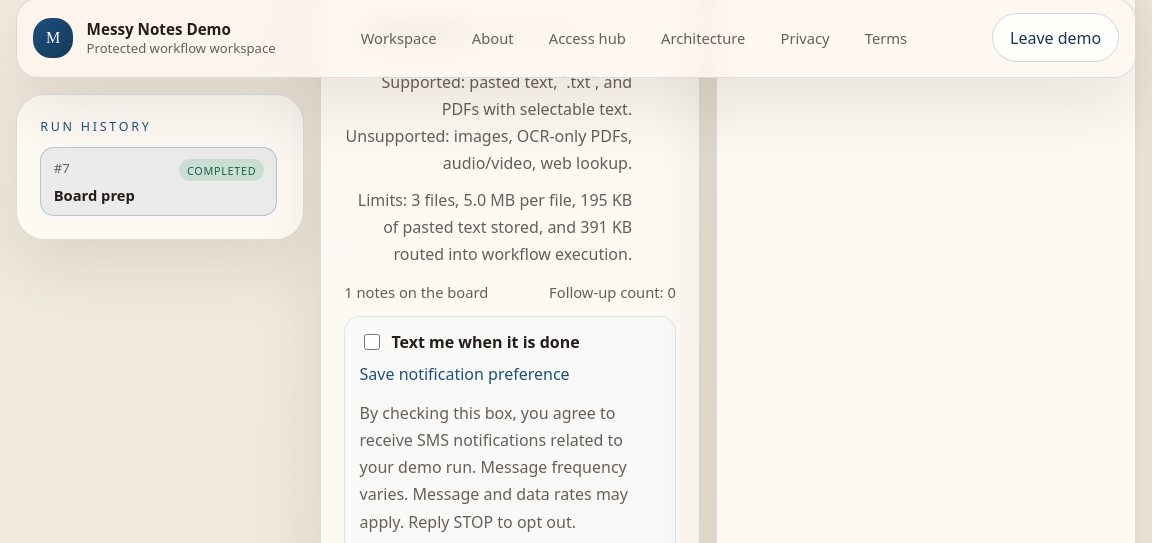
Test case: MessyNotesRunPage › captures notification preference and shows exhausted follow-up state
(page scrolled)
Click the checkbox labelled "Text me when it is done": (372, 342) [364, 334, 380, 350]
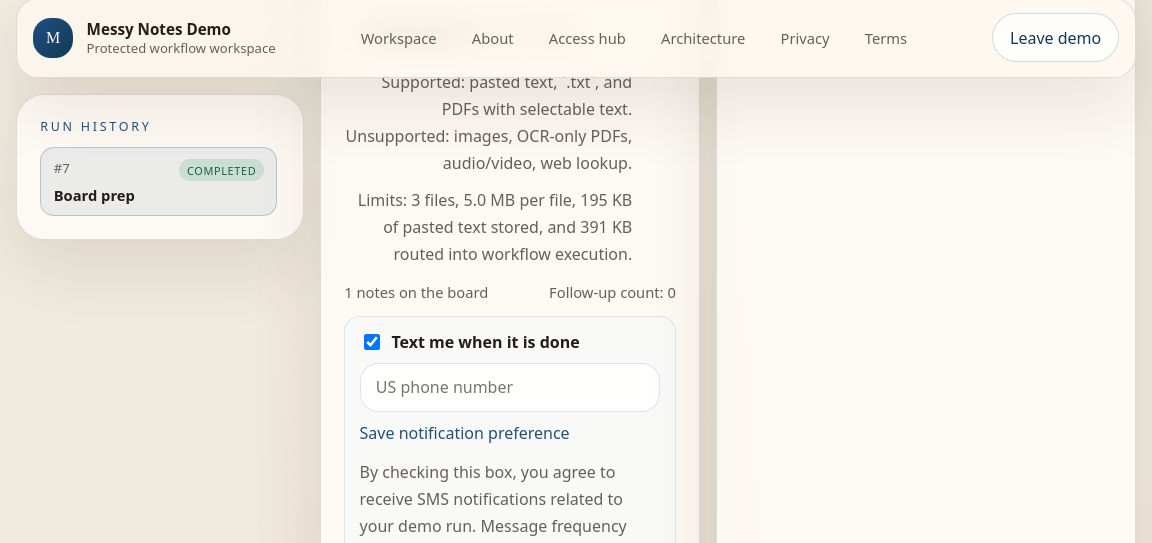
In the field labelled "US phone number": (510, 387) [360, 363, 660, 412], type "(415) 555-0134"
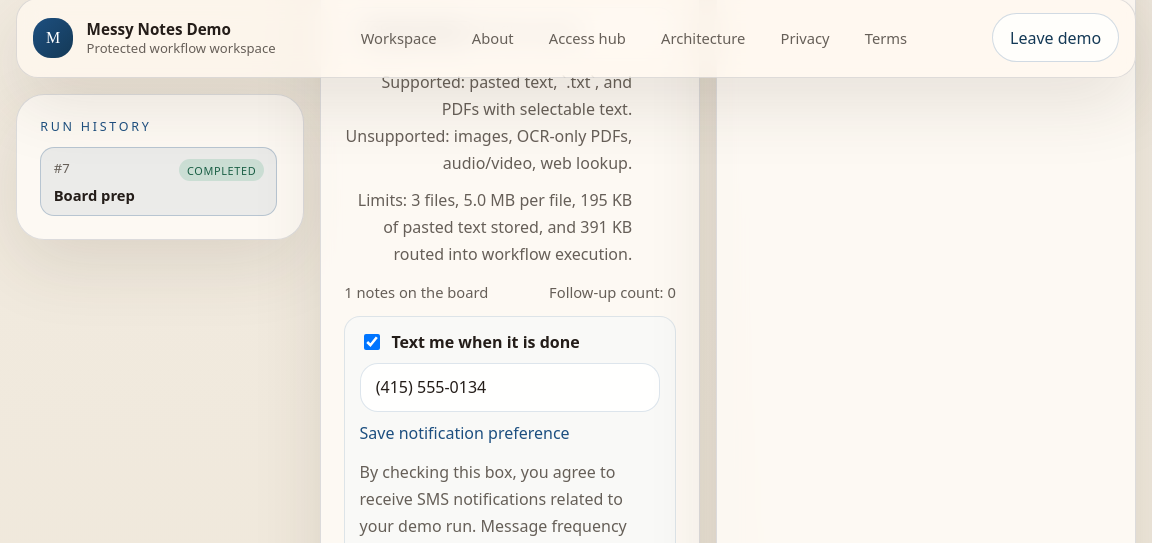
Click the button "Save notification preference": (465, 433) [360, 422, 570, 444]
(page scrolled)
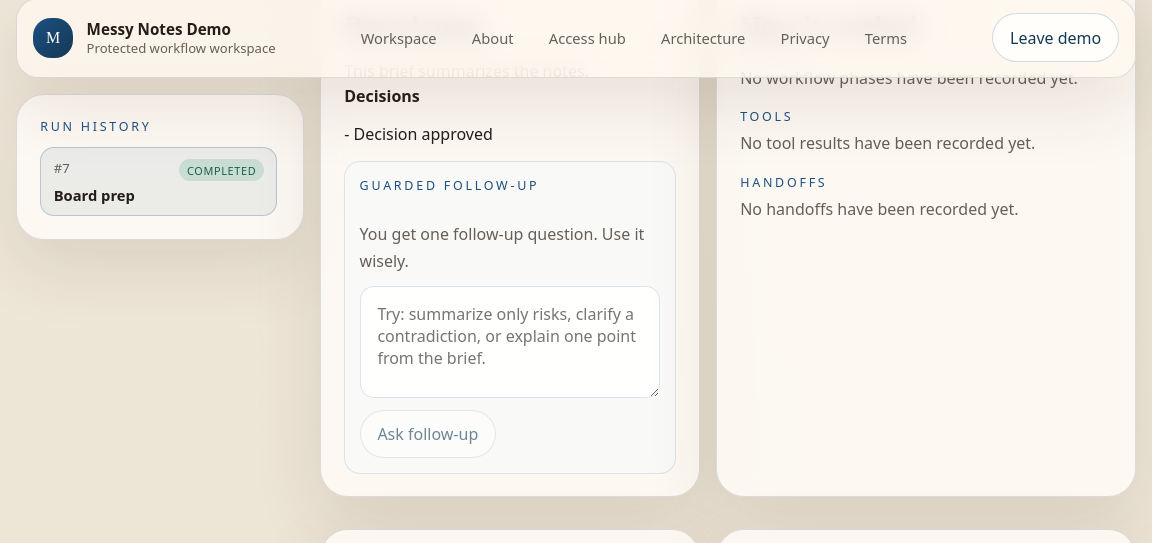
Replace the text in the text box named "Follow-up question" with "Summarize only decisions?": (510, 342) [360, 286, 660, 398]
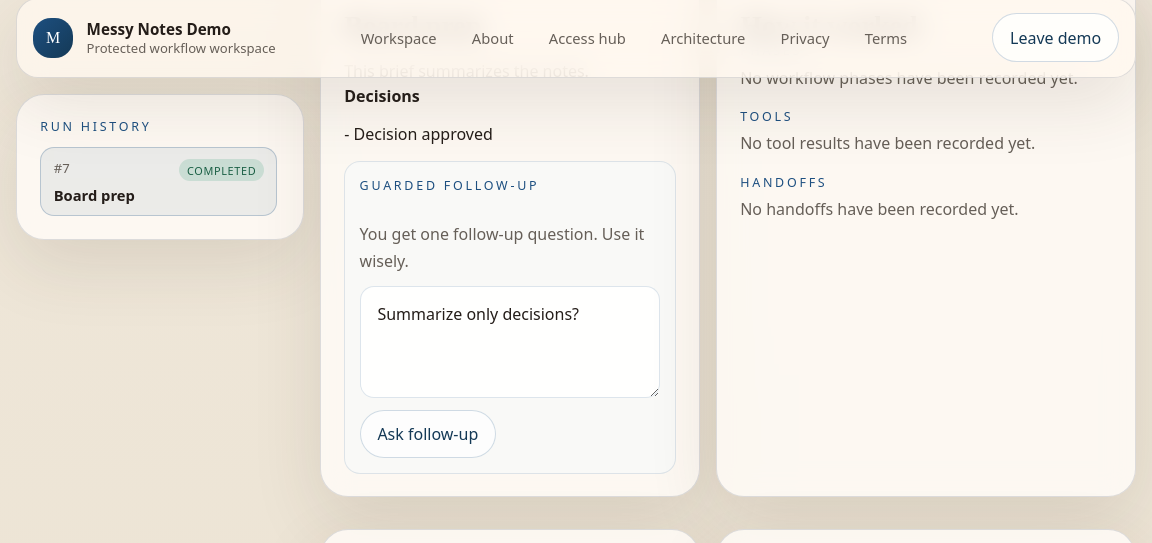
Click the button "Ask follow-up": (428, 434) [360, 410, 496, 458]
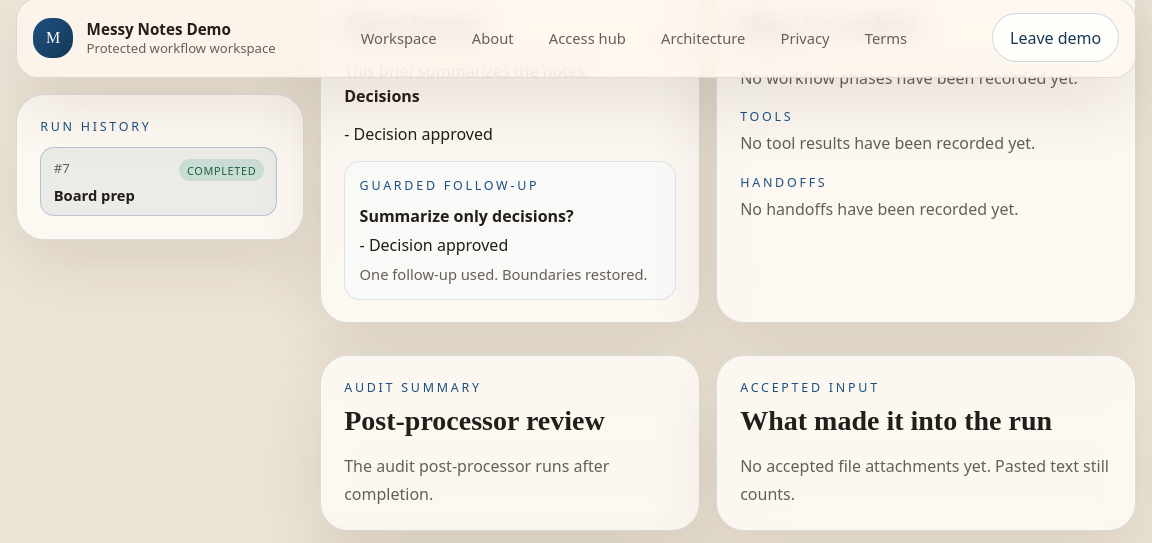
Expected: the text "One follow-up used. Boundaries restored." is shown, [360, 264, 660, 284]
